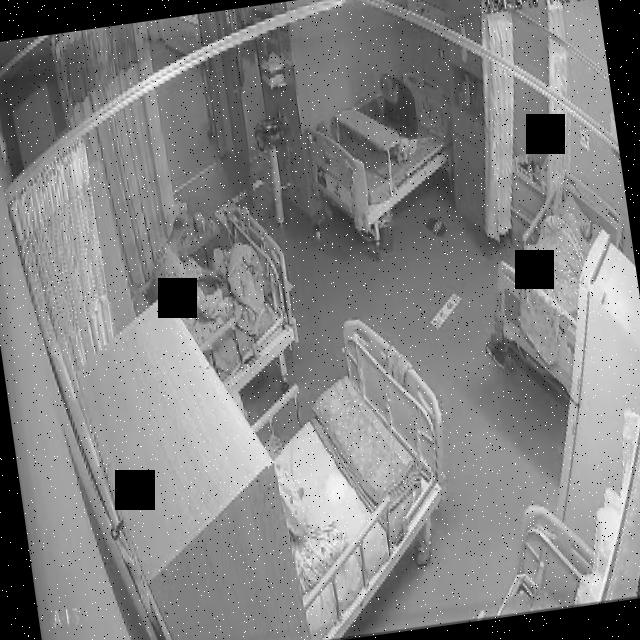bed: (255, 309, 471, 640), (476, 163, 640, 404), (154, 200, 304, 407), (299, 65, 460, 238)
patient: (143, 200, 280, 352), (372, 69, 425, 165)
sit: (146, 202, 278, 350), (371, 66, 425, 164)
